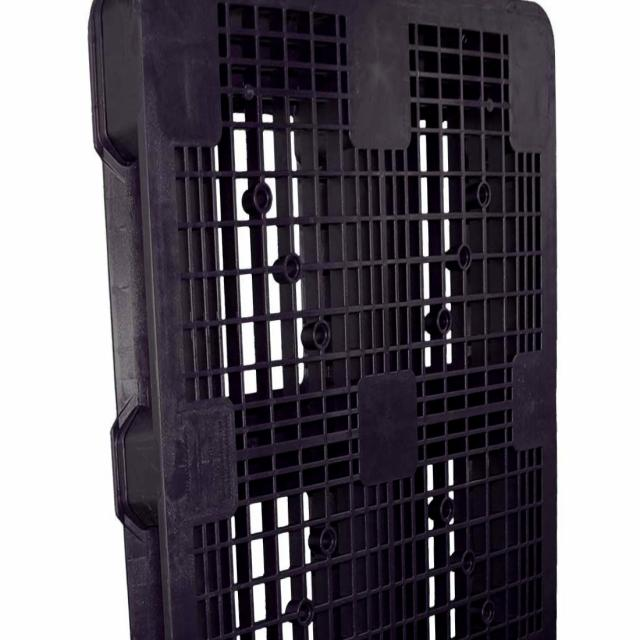non-igps: (73, 0, 571, 640)
